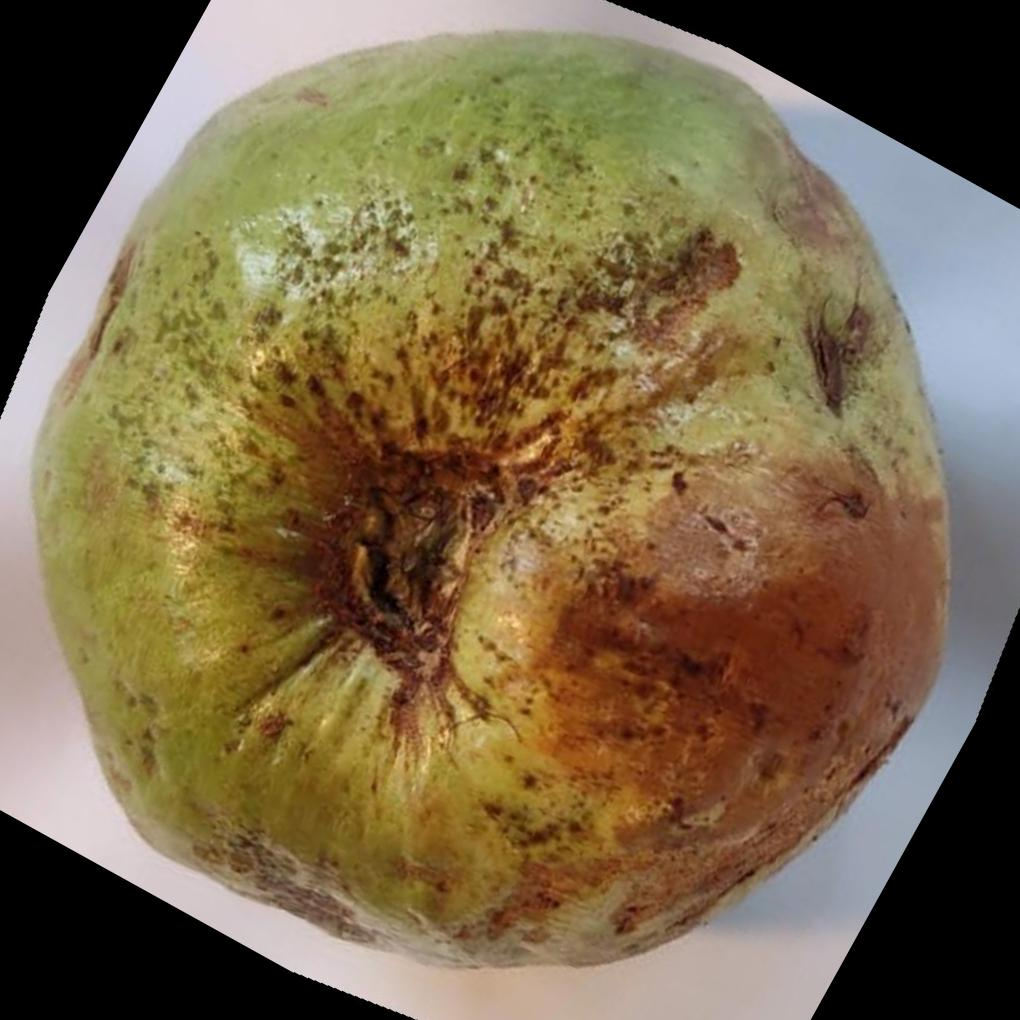FreshOrange: (26, 27, 951, 970)
